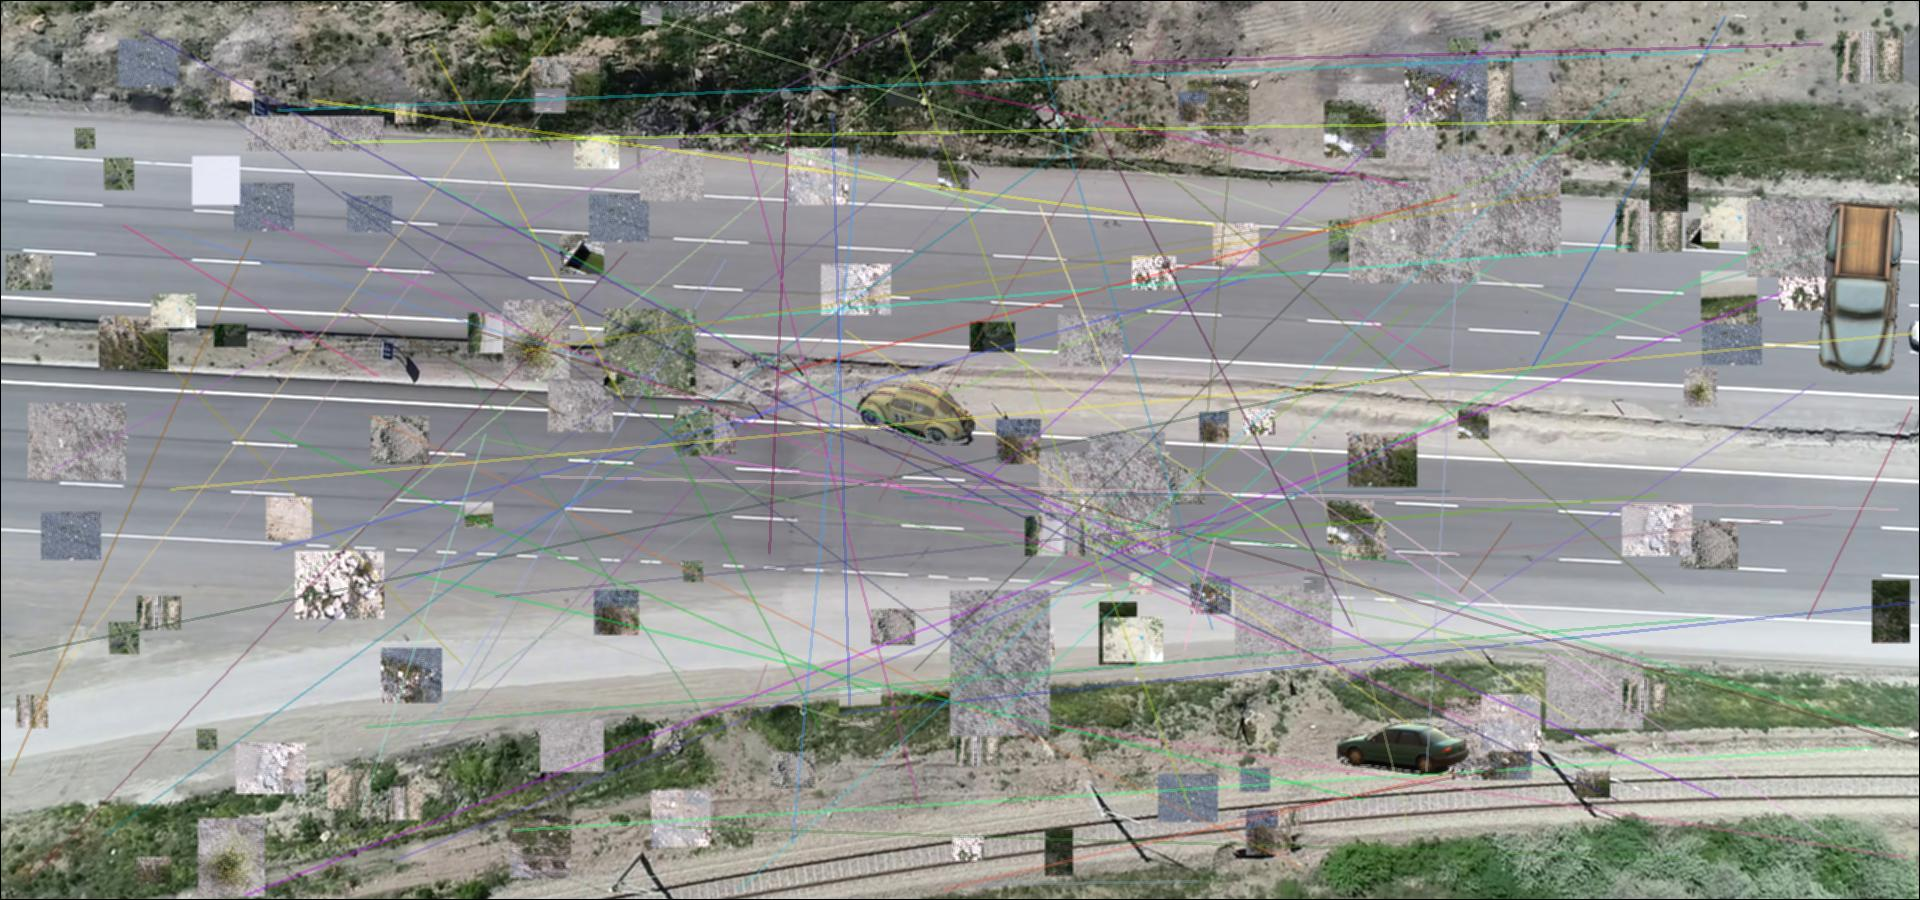arac: (1820, 202, 1902, 373), (856, 380, 975, 444), (1337, 720, 1469, 775)
